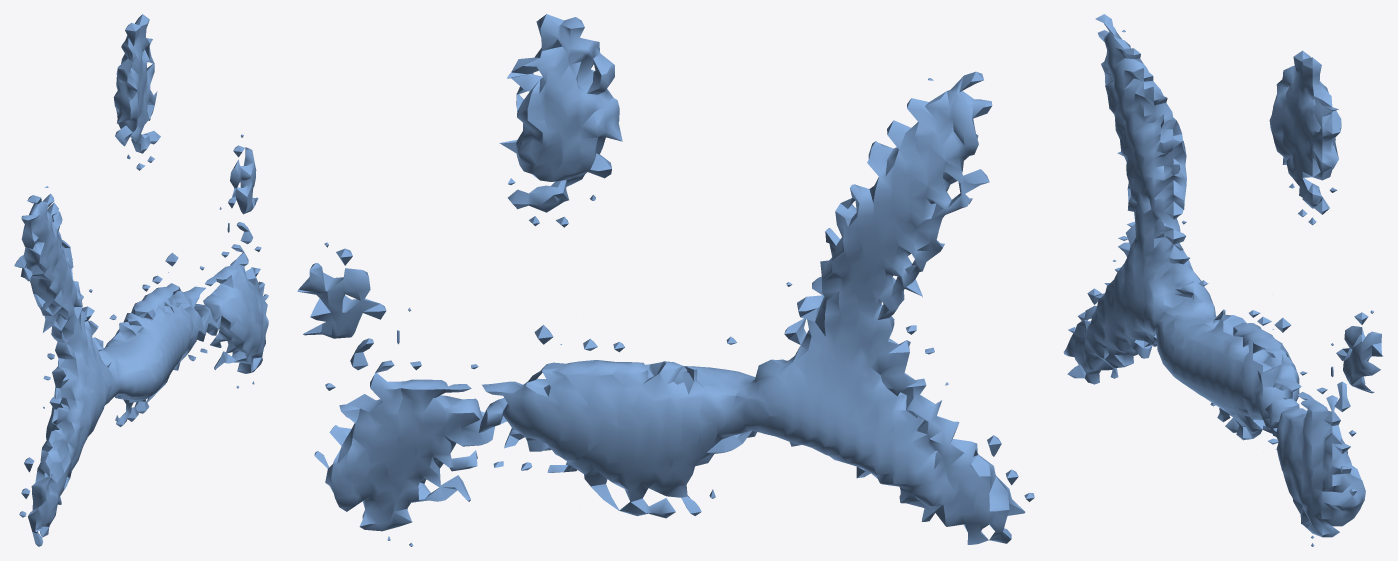
Rendered from envelope.classical.dcfs.-.glb.
3 renders of one model, left to right at view 1: azimuth 30°, elevation 25°; view 2: azimuth 150°, elevation 25°; view 3: azimuth 270°, elevation 25°, orthographic. The views are drawn at different scales.
Visible parts, largest first — view 1: envelope.classical.dcfs.-; view 2: envelope.classical.dcfs.-; view 3: envelope.classical.dcfs.-.
Part boxes in pixels (x1,y1,x2,y2): envelope.classical.dcfs.-: (14,14,268,546); envelope.classical.dcfs.-: (297,14,1034,546); envelope.classical.dcfs.-: (1063,14,1382,546).
Bounding box in the file's own units: 9.55 × 9.67 × 6.46.
